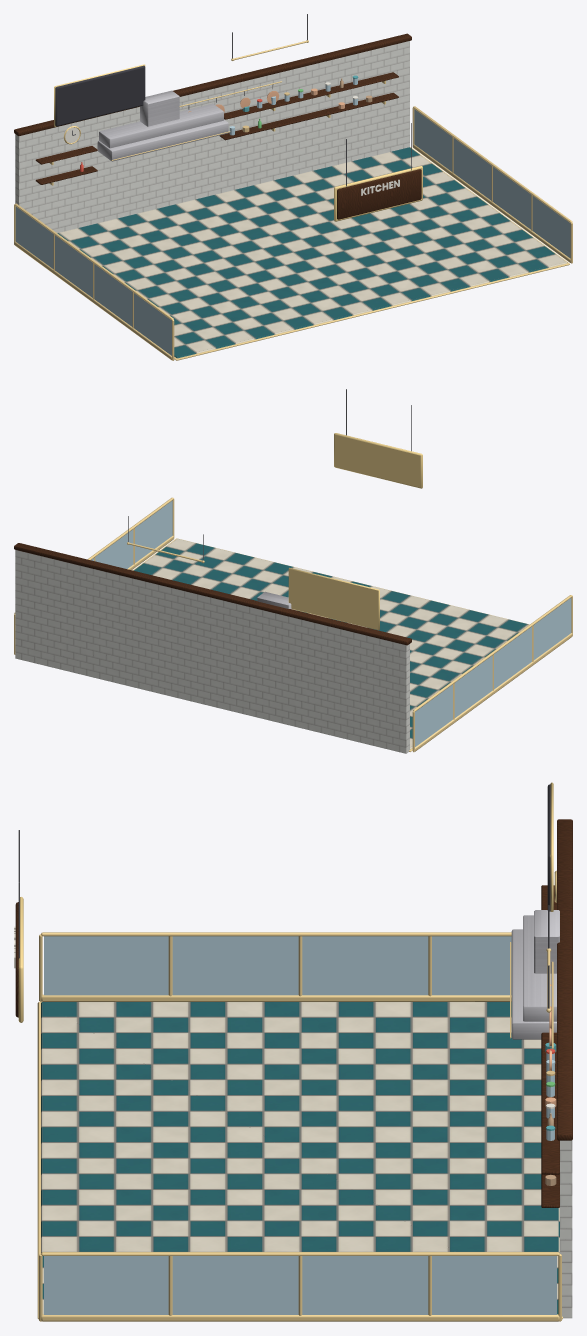
The model's file is kr_layA_shell.glb.
3 renders of one model, top to bottom at view 1: azimuth 30°, elevation 25°; view 2: azimuth 150°, elevation 25°; view 3: azimuth 270°, elevation 25°, orthographic. The views are drawn at different scales.
Visible parts, largest first — view 1: kr_layA_shell_checker, kr_layA_shell_subway, vc_m0_r2, kr_layA_shell_darkwood, vc_m8_r2, kr_layA_shell_steel, vc_m0_r4, vc_m8_r4; view 2: kr_layA_shell_subway, kr_layA_shell_checker, vc_m8_r2, vc_m0_r2, kr_layA_shell_darkwood; view 3: kr_layA_shell_checker, vc_m0_r2, vc_m8_r2, kr_layA_shell_darkwood, kr_layA_shell_steel, kr_layA_shell_subway, vc_m0_r4, vc_m8_r4.
Part boxes in pixels (<box>): kr_layA_shell_checker: <box>57,147,567,358</box>; kr_layA_shell_subway: <box>15,41,409,232</box>; vc_m0_r2: <box>15,78,570,355</box>; kr_layA_shell_darkwood: <box>14,33,421,219</box>; vc_m8_r2: <box>14,40,572,360</box>; kr_layA_shell_steel: <box>97,90,228,161</box>; vc_m0_r4: <box>55,65,399,195</box>; vc_m8_r4: <box>188,14,411,186</box>; kr_layA_shell_subway: <box>15,550,409,753</box>; kr_layA_shell_checker: <box>134,538,529,749</box>; vc_m8_r2: <box>14,433,572,752</box>; vc_m0_r2: <box>91,500,571,746</box>; kr_layA_shell_darkwood: <box>14,543,411,645</box>; kr_layA_shell_checker: <box>41,1002,559,1314</box>; vc_m0_r2: <box>44,936,556,1314</box>; vc_m8_r2: <box>18,782,562,1321</box>; kr_layA_shell_darkwood: <box>15,819,572,1207</box>; kr_layA_shell_steel: <box>511,910,559,1039</box>; kr_layA_shell_subway: <box>560,1140,572,1318</box>; vc_m0_r4: <box>14,784,556,1130</box>; vc_m8_r4: <box>18,830,556,1106</box>.
Size of the model in its own units: 12.32 by 5.46 by 9.05.
11 materials, 4 textured.
